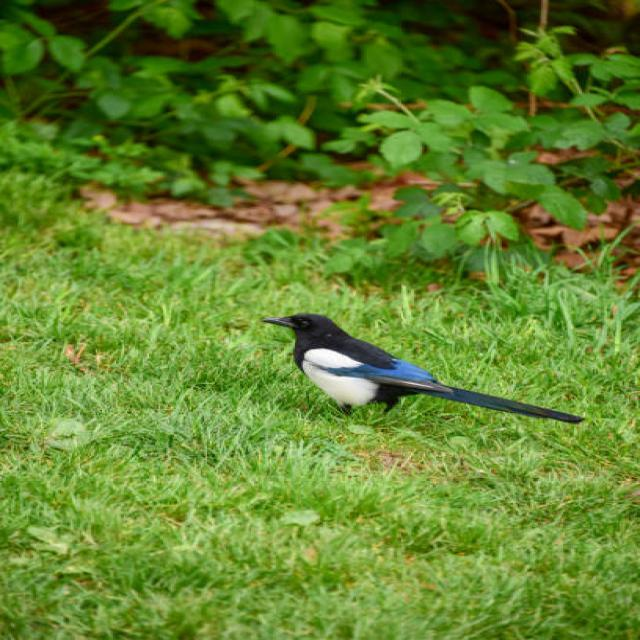Magpie: (255, 311, 590, 434)
